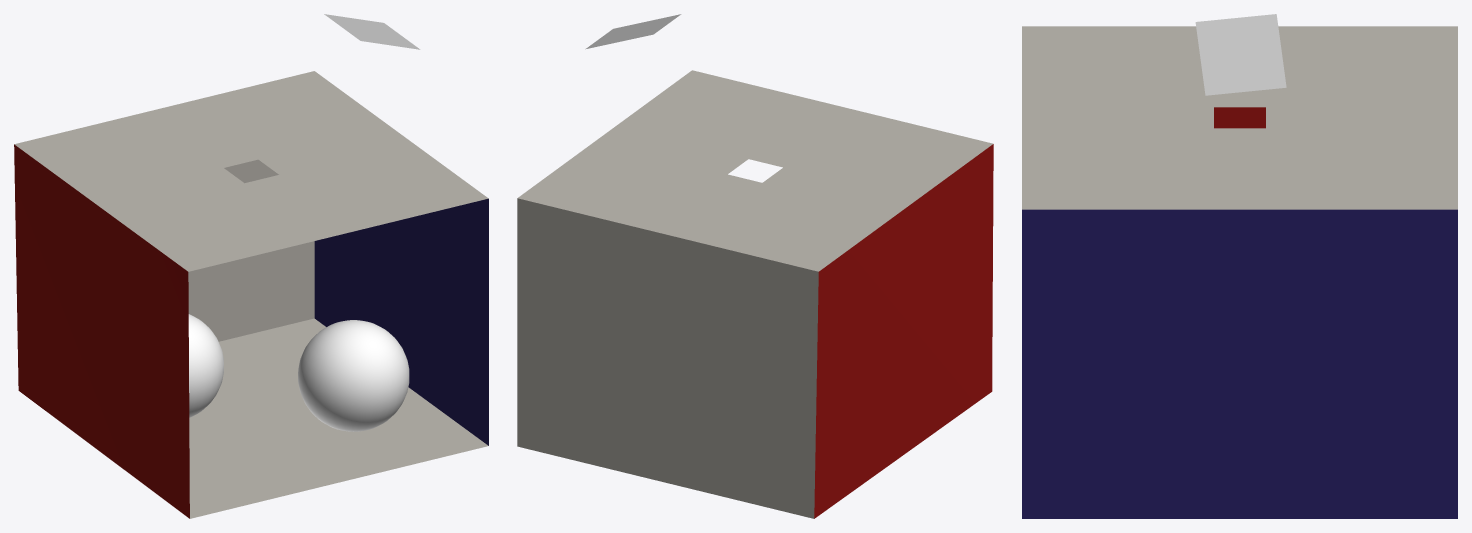
The model's file is hole_top.obj.
The picture shows the model from 3 angles, left to right: view 1: azimuth 30°, elevation 25°; view 2: azimuth 150°, elevation 25°; view 3: azimuth 270°, elevation 25°; orthographic projection. The views are drawn at different scales.
Visible parts, largest first — view 1: new_model; view 2: new_model; view 3: new_model.
Boxes of the visible parts, x1,y1,x2,y2 form: new_model: (14,14,488,518); new_model: (517,14,993,518); new_model: (1022,14,1457,518).
Size of the model in its own units: 2.06 by 2.4 by 2.03.
